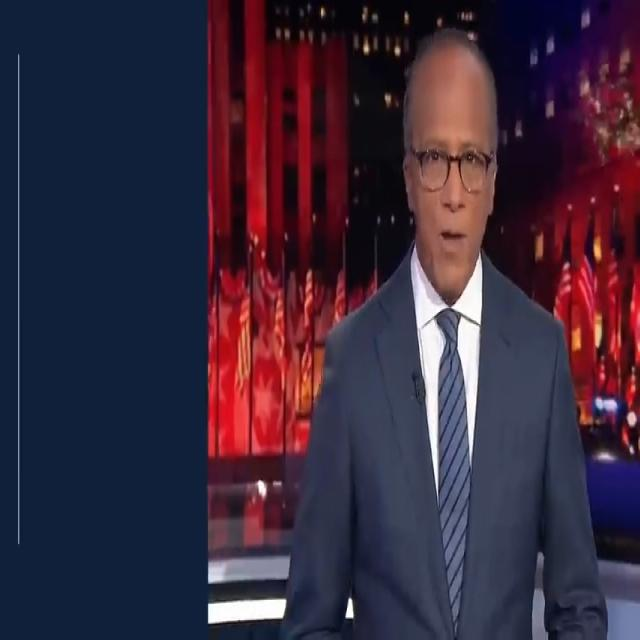non-fight: (270, 10, 640, 640)
